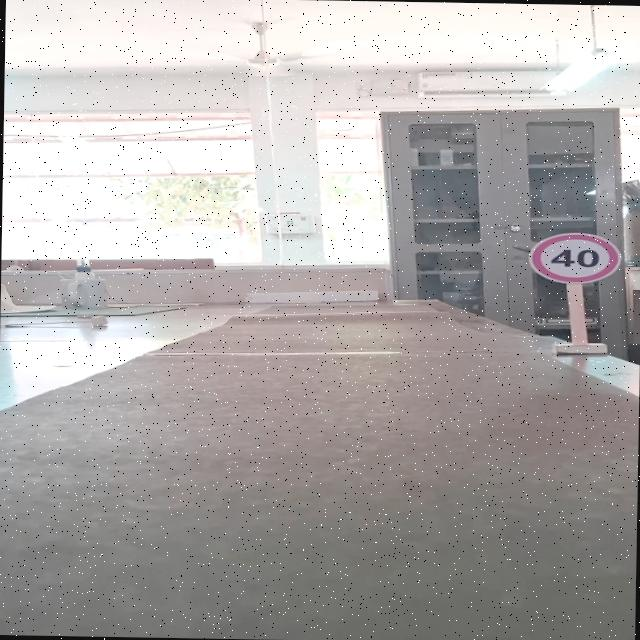Speed40: (524, 229, 626, 286)
